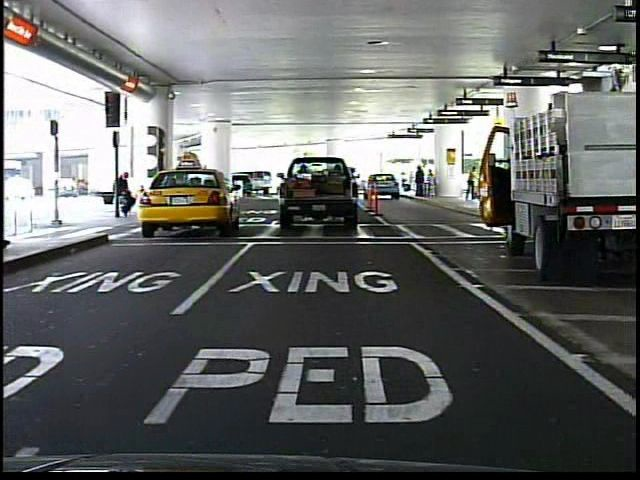person: (116, 166, 138, 222)
